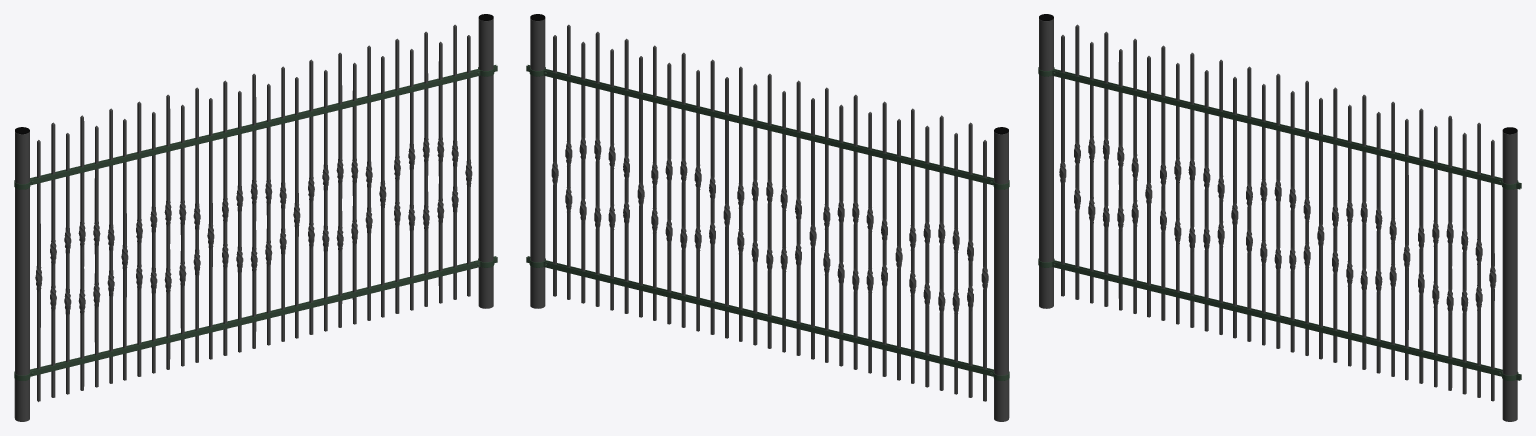
File: pagerbesi.fbx
3 views of the same model, side by side, from view 1: azimuth 30°, elevation 25°; view 2: azimuth 150°, elevation 25°; view 3: azimuth 330°, elevation 25° (orthographic).
Parts seen in each view (by area): view 1: Iron fence; view 2: Iron fence; view 3: Iron fence.
Part boxes in pixels (bbox=[...]): Iron fence: bbox=[14, 14, 497, 421]; Iron fence: bbox=[526, 14, 1009, 421]; Iron fence: bbox=[1038, 14, 1521, 421].
Bounding box in the file's own units: 259 × 148 × 7.59.
